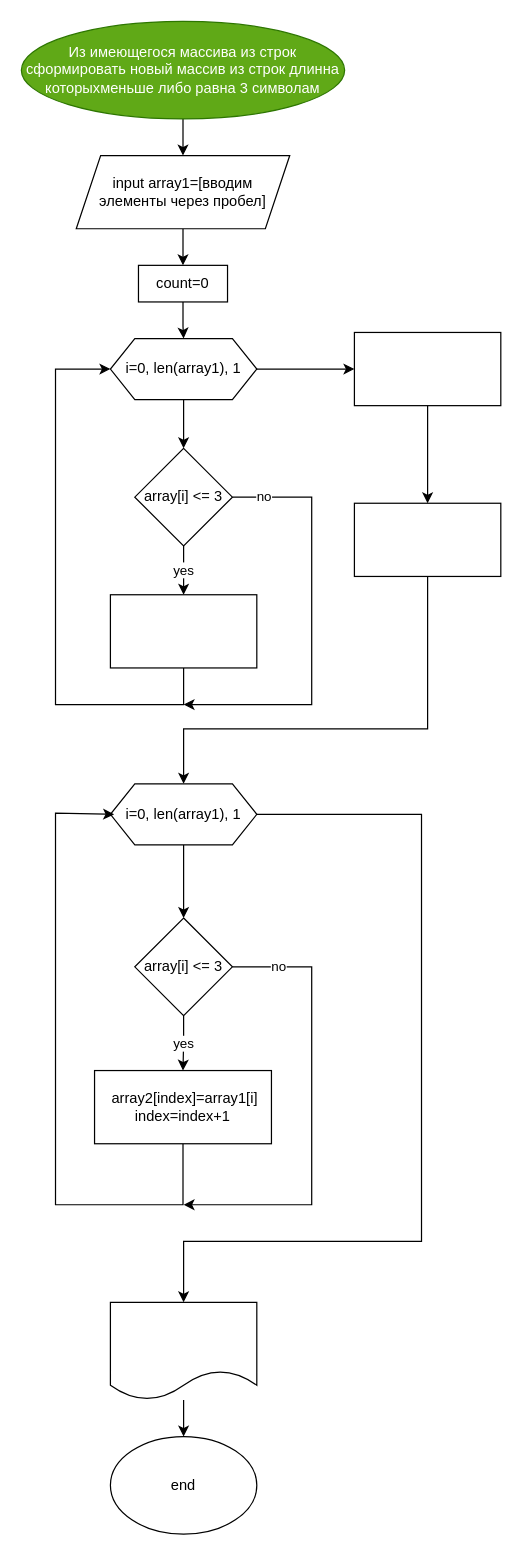
Some shapes in this 522 by 1556 pixel diagram are drawn without their labels. The shapes that lost their labels are listed below. From the top down, each one's centre as x and y in pixels, then its label:
pixel 427 368: array2=[массив с количеством элементов count]
pixel 427 539: index=0
pixel 183 631: count=count+1
pixel 183 1350: print array1 print array2
